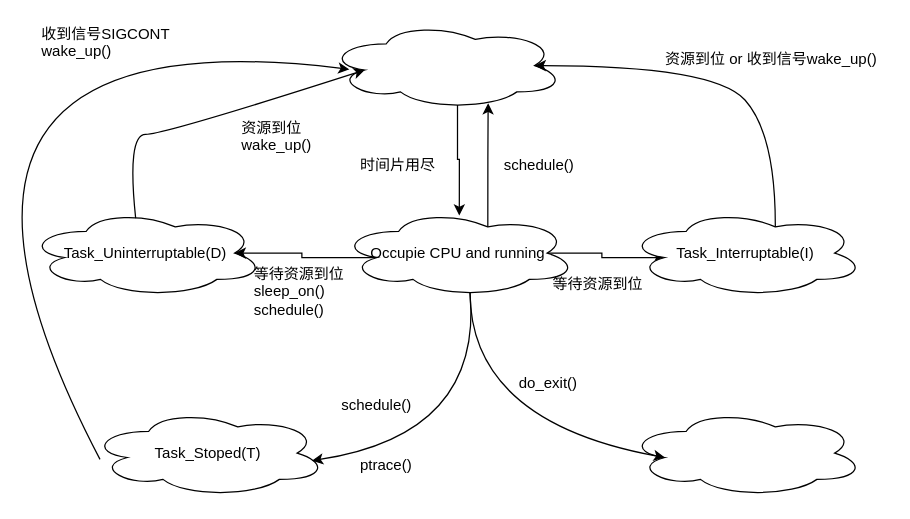
The diagram is 910 pixels wide and 519 high, and some of its shapes have lost their labels. The centre of each missing label's shape, as x and y in pixels:
Task Runnning(R): the point at 445,65
Task_Zombie(T): the point at 745,452
